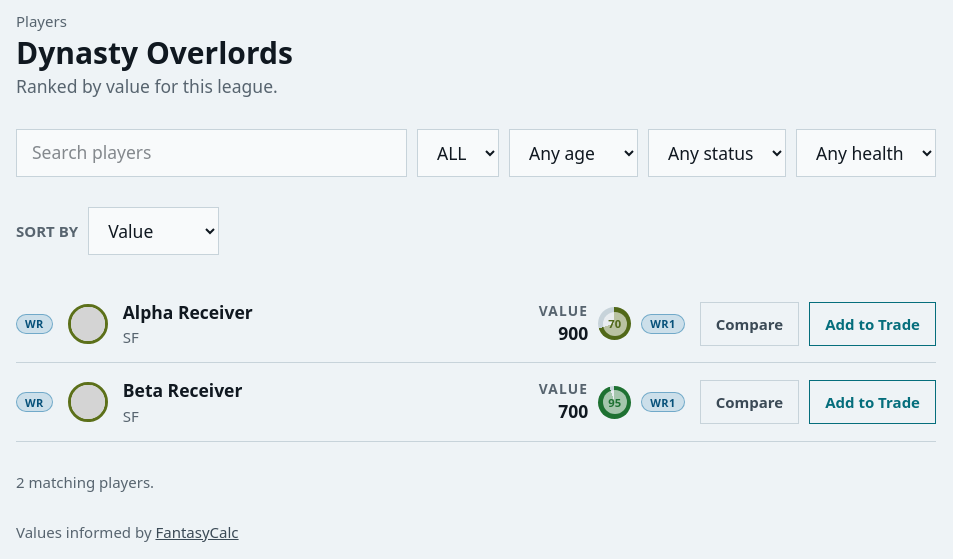
PlayersContent › Madden-style stat sort › offers every stat the visible pool carries, and re-sorts the board by raw value when picked
The image size is (953, 559).
Select "Rec Yards" in the dropdown next to "Sort by". click: [154, 231]
box: [88,207,219,255]
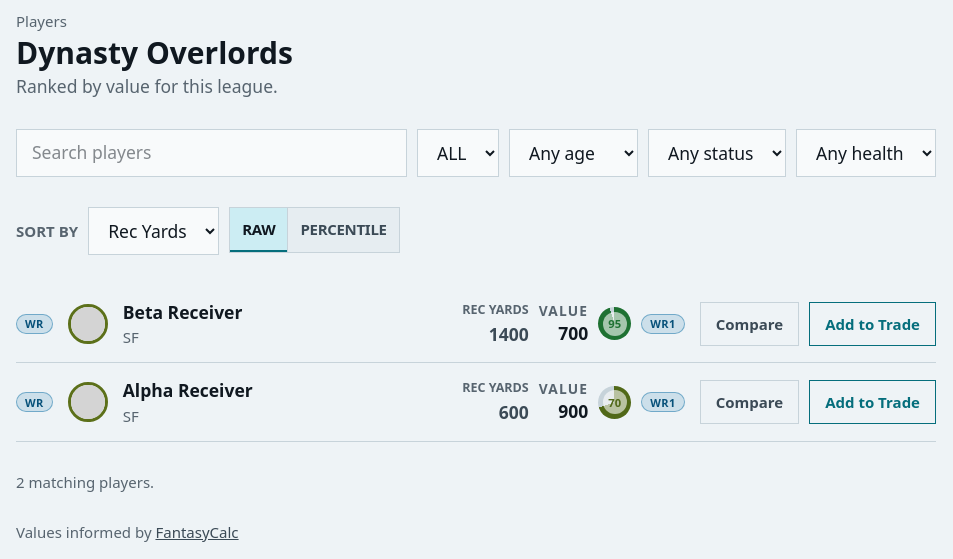
Now the elements "Receiver" read "Beta Receiver", "Alpha Receiver", in this order, box [123,300,242,325]; [123,378,253,404]
Now the text "600" is shown, box [499,400,529,425]
Now the text "1400" is shown, box [489,322,529,346]
